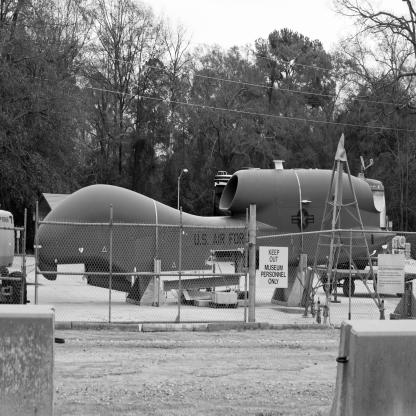RQ4: (34, 161, 398, 294)
